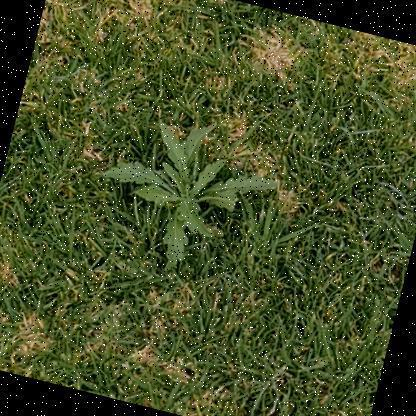Weeds: (84, 98, 290, 293)
